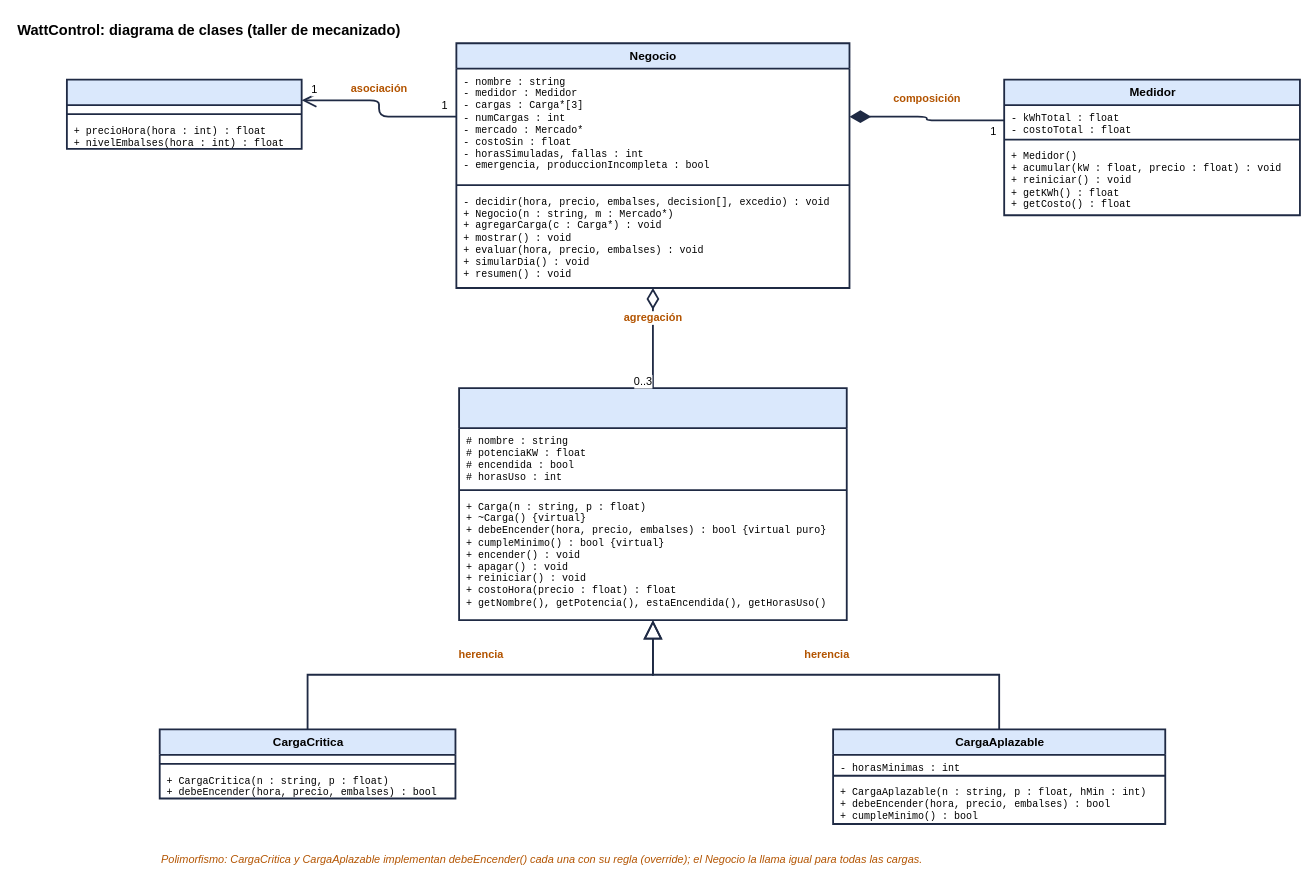
This 1316x889 diagram has some shape labels left out. The shapes that lost their labels are listed below. From the top down, each one's box as (x1, y1, x2, y2) in pixels, then its label:
(66, 78, 302, 149): Mercado
(458, 387, 847, 621): «abstract» Carga
